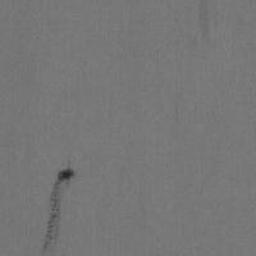Inclusion: (43, 167, 76, 252)
